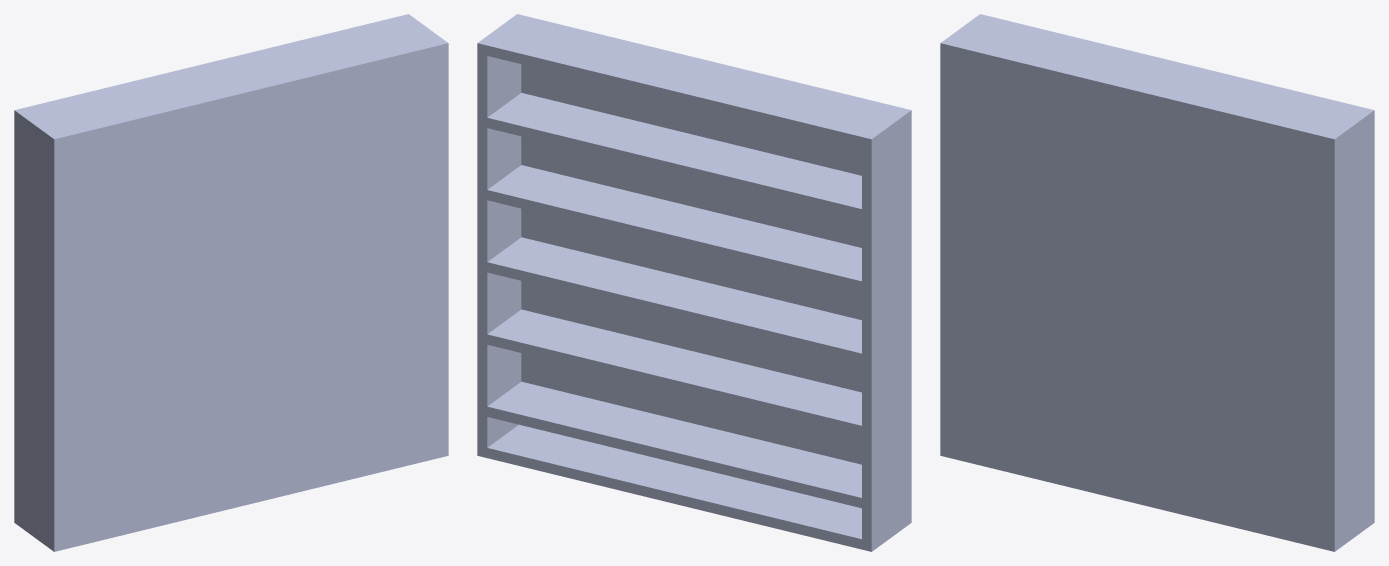
File: grocery_shelf.obj
3 renders of one model, left to right at view 1: azimuth 30°, elevation 25°; view 2: azimuth 150°, elevation 25°; view 3: azimuth 330°, elevation 25°, orthographic.
Visible parts, largest first — view 1: mesh 1 grocer; view 2: mesh 1 grocer; view 3: mesh 1 grocer.
Part boxes in pixels (x1,y1,x2,y2): mesh 1 grocer: [14, 14, 448, 551]; mesh 1 grocer: [477, 14, 911, 551]; mesh 1 grocer: [940, 14, 1374, 551].
Size of the model in its own units: 2 by 2 by 0.35.
